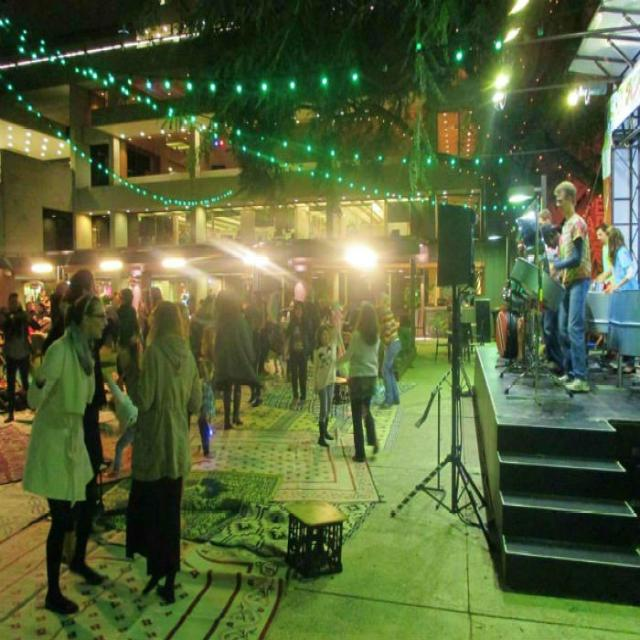body: (18, 289, 111, 618), (119, 298, 206, 610), (60, 266, 110, 514), (550, 179, 594, 395), (342, 300, 382, 464), (502, 215, 540, 376), (0, 289, 44, 428), (600, 225, 640, 376), (213, 298, 257, 432), (310, 307, 345, 449), (243, 277, 281, 407), (100, 367, 140, 480), (540, 223, 566, 379), (373, 287, 401, 412), (284, 300, 316, 405), (116, 288, 141, 386), (178, 282, 208, 359), (136, 285, 163, 367), (195, 370, 218, 460), (100, 279, 120, 368), (592, 222, 614, 284), (315, 290, 344, 327), (27, 308, 50, 336), (25, 289, 51, 310), (344, 296, 359, 331), (537, 207, 552, 226), (537, 206, 553, 222)
